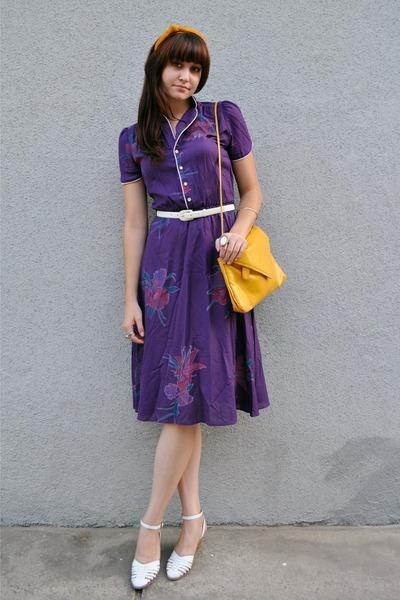dress: (113, 95, 273, 423)
